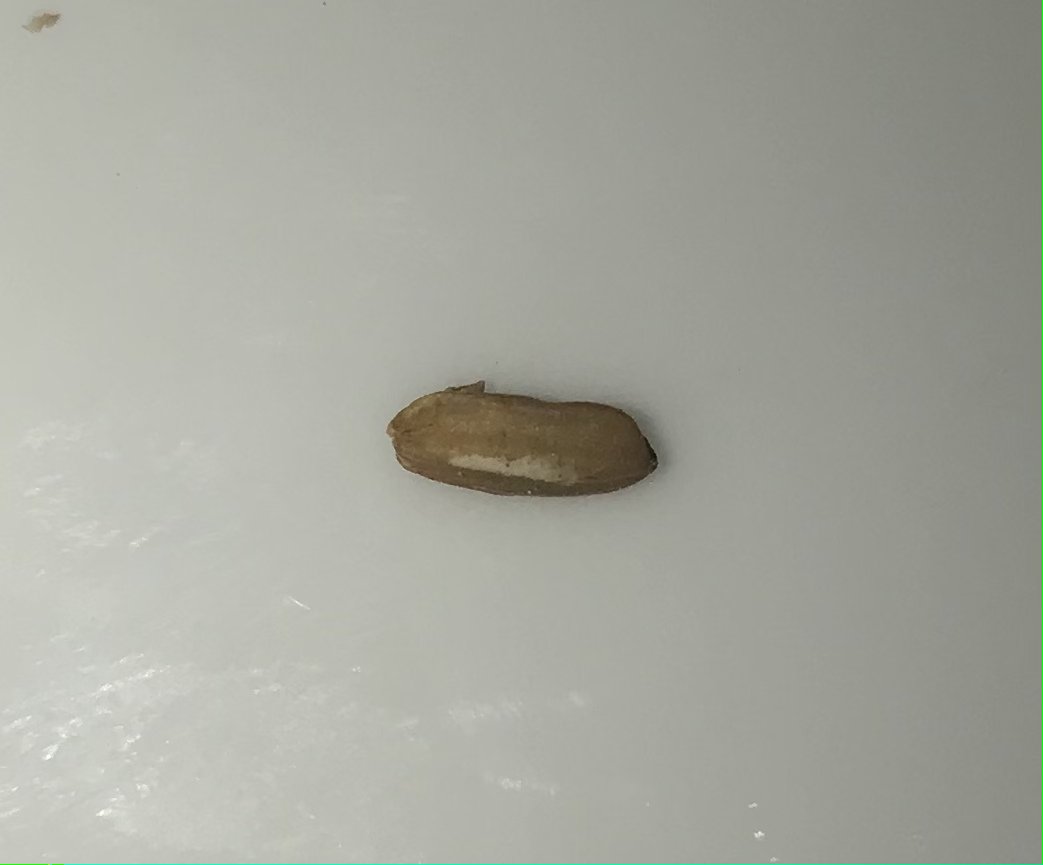Gao Lut Dien Bien: (388, 379, 665, 500)
